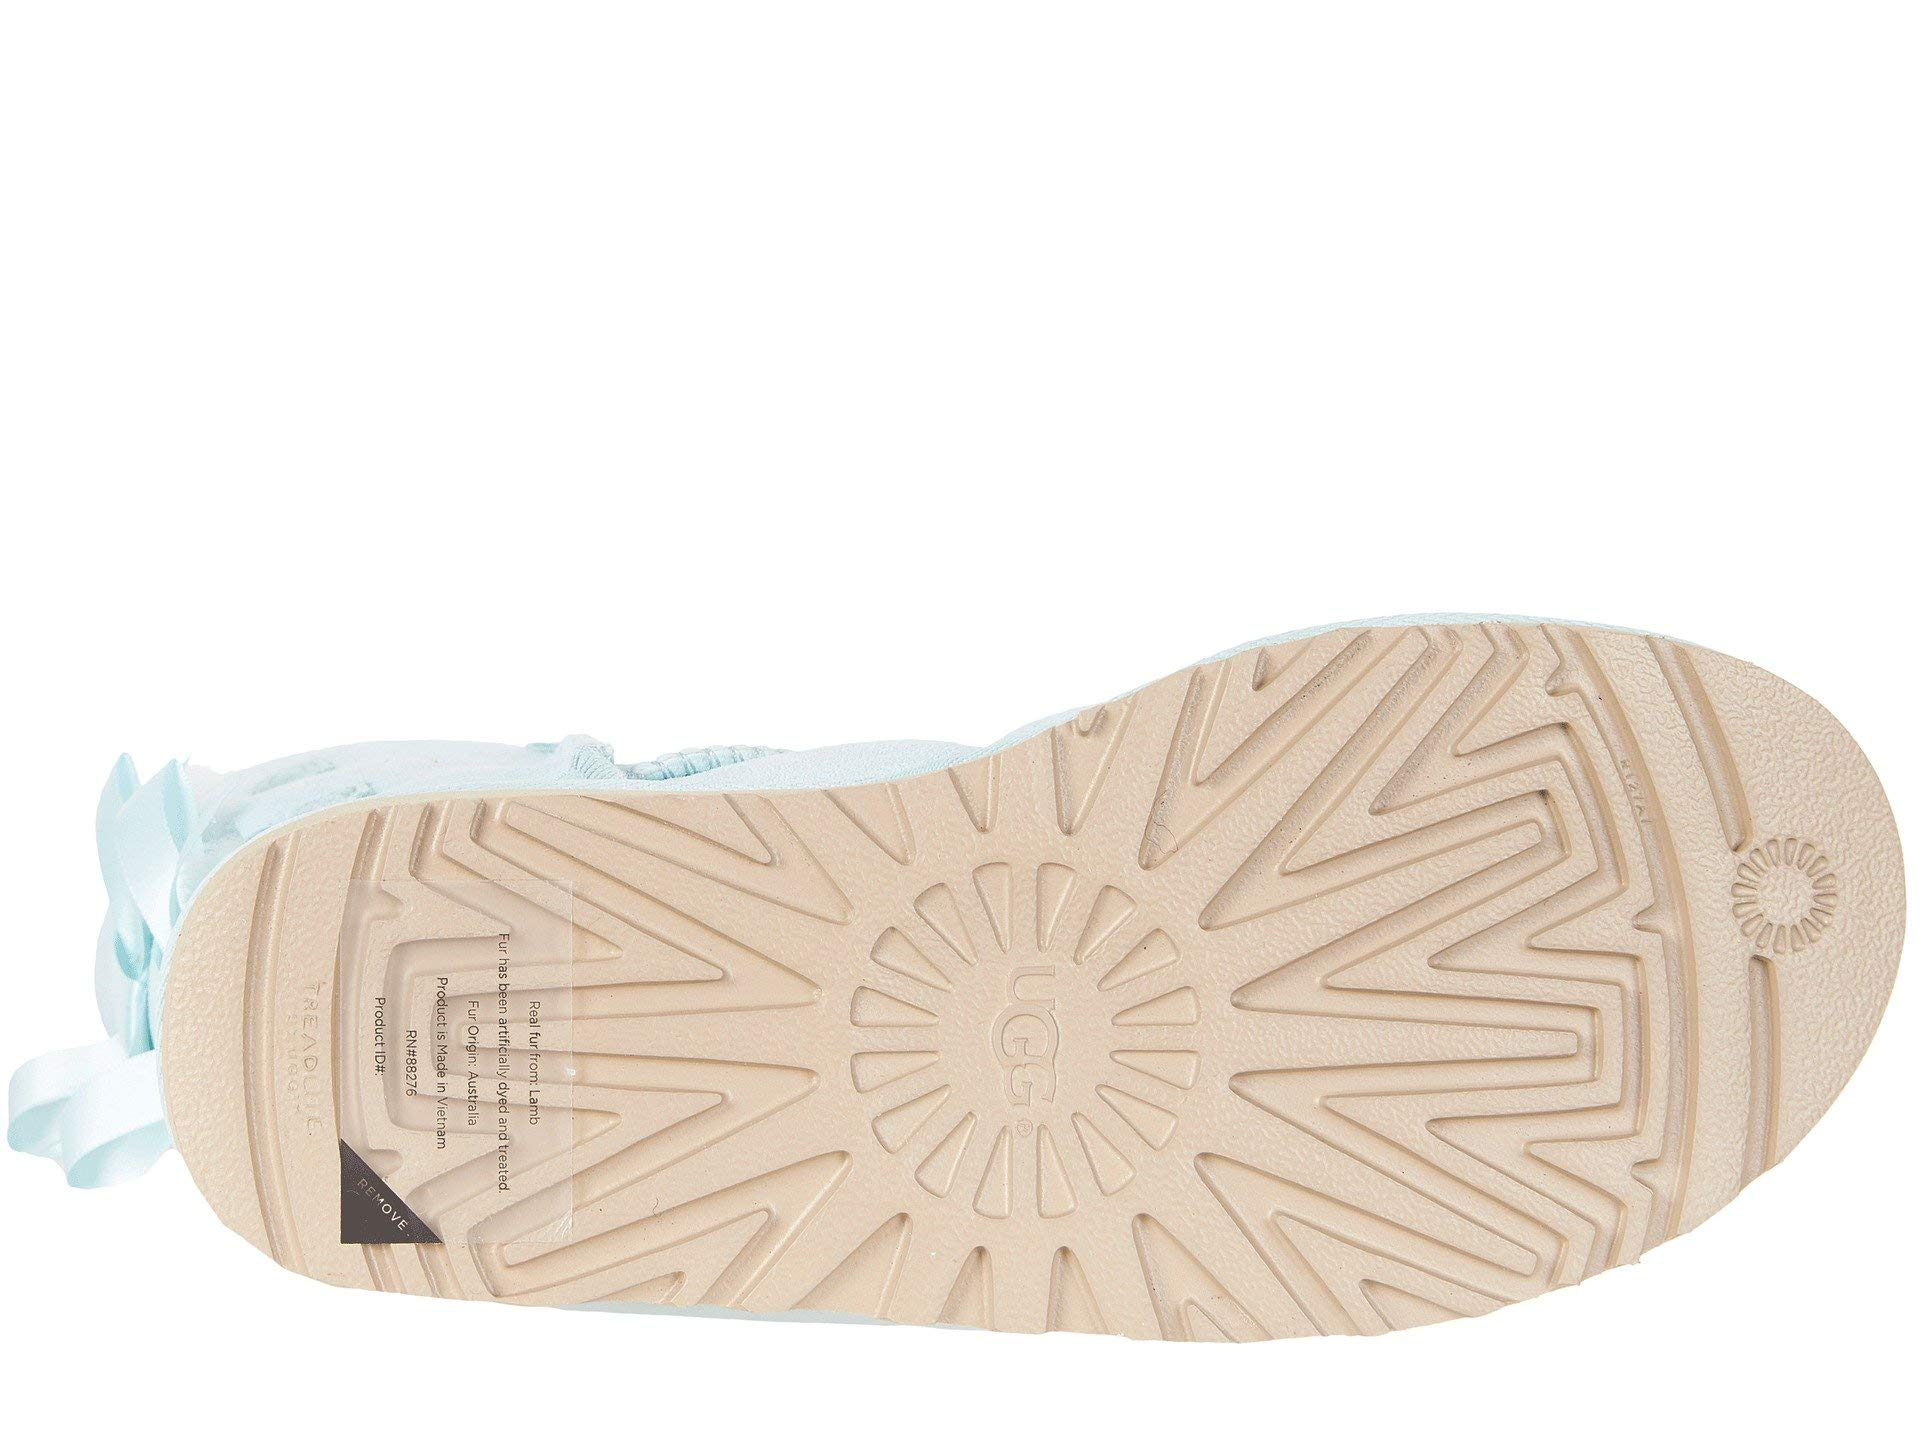chevron: (1271, 641, 1695, 1254)
circle: (853, 836, 1205, 1225), (230, 824, 327, 1287), (1728, 777, 1870, 1068)
exclude: (337, 868, 568, 1237), (2, 767, 156, 1225)
line: (230, 824, 327, 1287), (1728, 777, 1870, 1068)
text: (853, 836, 1205, 1225), (230, 824, 327, 1287)
triangle: (853, 836, 1205, 1225), (1728, 777, 1870, 1068)
